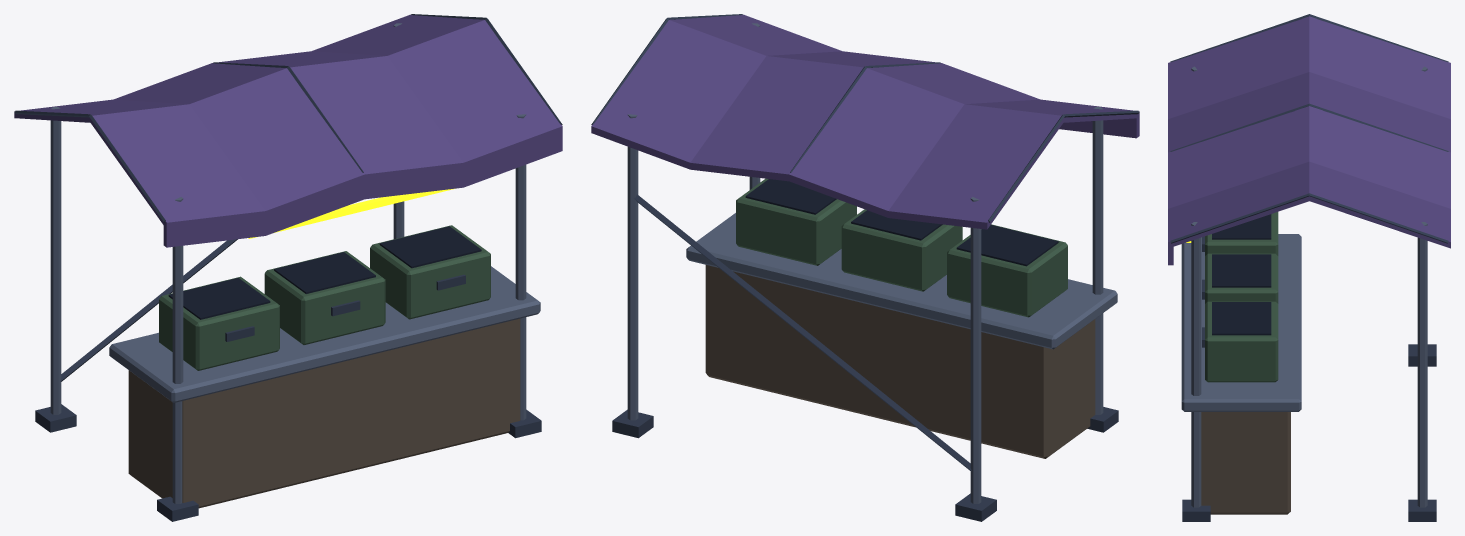
Rendered from city_market_stall_canopy_violet.glb.
3 renders of one model, left to right at view 1: azimuth 30°, elevation 25°; view 2: azimuth 150°, elevation 25°; view 3: azimuth 270°, elevation 25°, orthographic. The views are drawn at different scales.
Visible parts, largest first — view 1: canopy, counter_base, counter, valance, crate.001, crate.002, crate, post, post.001, crate_opening.001, crate_opening.002, post.003 (+6 smaller); view 2: canopy, counter_base, counter, crate, crate.001, crate.002, post, post.002, post.001, rear_brace, crate_opening, crate_opening.002 (+5 smaller); view 3: canopy, counter_base, counter, crate.002, post.002, post.003, crate_opening.001, crate_opening.002, crate.001, crate, tarp_seam.002, crate_opening (+5 smaller).
Boxes of the visible parts, box(x1,y1,x2,y2) form: canopy: box(14, 14, 562, 229); counter_base: box(128, 318, 520, 508); counter: box(109, 266, 540, 402); valance: box(163, 127, 562, 247); crate.001: box(264, 251, 385, 344); crate.002: box(370, 225, 490, 319); crate: box(159, 276, 279, 370); post: box(50, 107, 61, 414); post.001: box(172, 197, 183, 503); crate_opening.001: box(274, 252, 375, 293); crate_opening.002: box(379, 226, 481, 268); post.003: box(515, 114, 526, 420); canopy: box(591, 14, 1139, 229); counter_base: box(705, 265, 1095, 458); counter: box(686, 213, 1117, 349); crate: box(947, 224, 1067, 317); crate.001: box(841, 209, 962, 291); crate.002: box(736, 178, 856, 265); post: box(970, 197, 981, 503); post.002: box(627, 114, 638, 420); post.001: box(1092, 107, 1103, 414); rear_brace: box(634, 194, 971, 470); crate_opening: box(956, 225, 1058, 266); crate_opening.002: box(745, 179, 836, 214); canopy: box(1168, 16, 1450, 248); counter_base: box(1201, 412, 1290, 514); counter: box(1181, 234, 1301, 411); crate.002: box(1205, 301, 1278, 382); post.002: box(1417, 222, 1427, 507); post.003: box(1191, 222, 1201, 507); crate_opening.001: box(1212, 254, 1271, 287); crate_opening.002: box(1212, 302, 1271, 335); crate.001: box(1205, 253, 1278, 303); crate: box(1205, 212, 1278, 255); tarp_seam.002: box(1170, 193, 1448, 243); crate_opening: box(1212, 214, 1271, 239).
Bounding box in the file's own units: 3.02 × 2.61 × 2.
